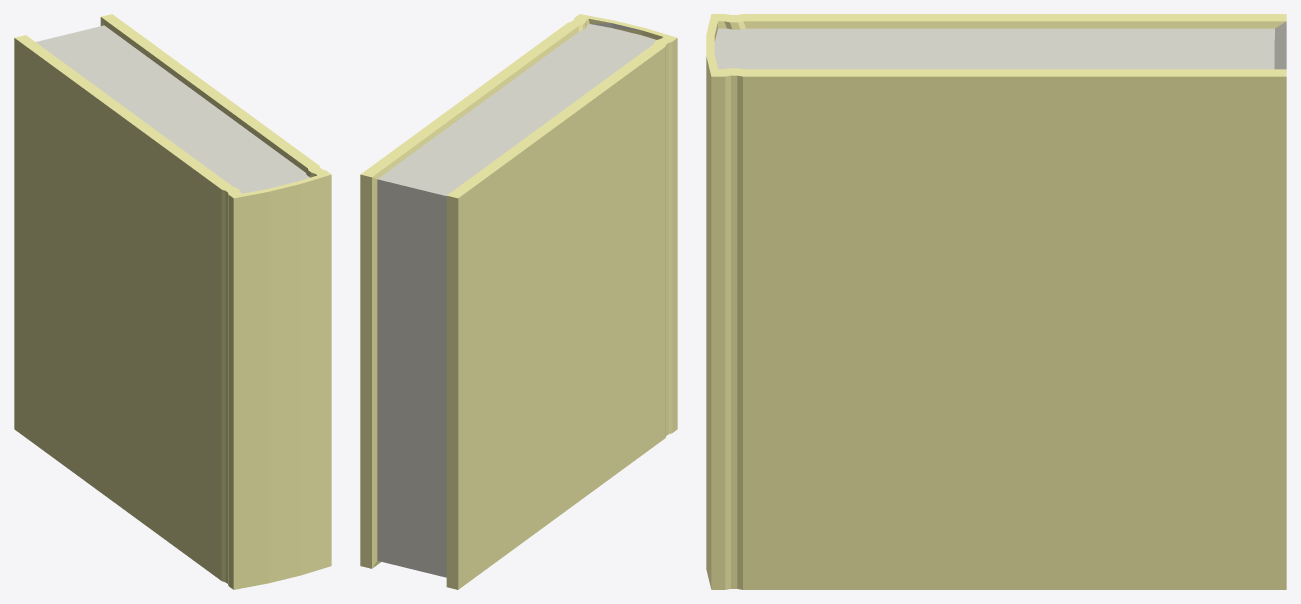
File: book_5.glb
3 renders of one model, left to right at view 1: azimuth 30°, elevation 25°; view 2: azimuth 150°, elevation 25°; view 3: azimuth 270°, elevation 25°, orthographic. The views are drawn at different scales.
Parts seen in each view (by area): view 1: book.005; view 2: book.005; view 3: book.005.
Part boxes in pixels (x1,y1,x2,y2): book.005: (14,14,331,589); book.005: (360,14,677,589); book.005: (706,14,1286,589).
Size of the model in its own units: 0.1032 by 0.3947 by 0.4044.
